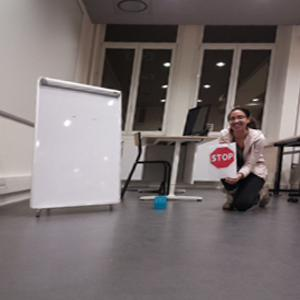big: (31, 76, 122, 212)
small: (153, 195, 167, 210)
